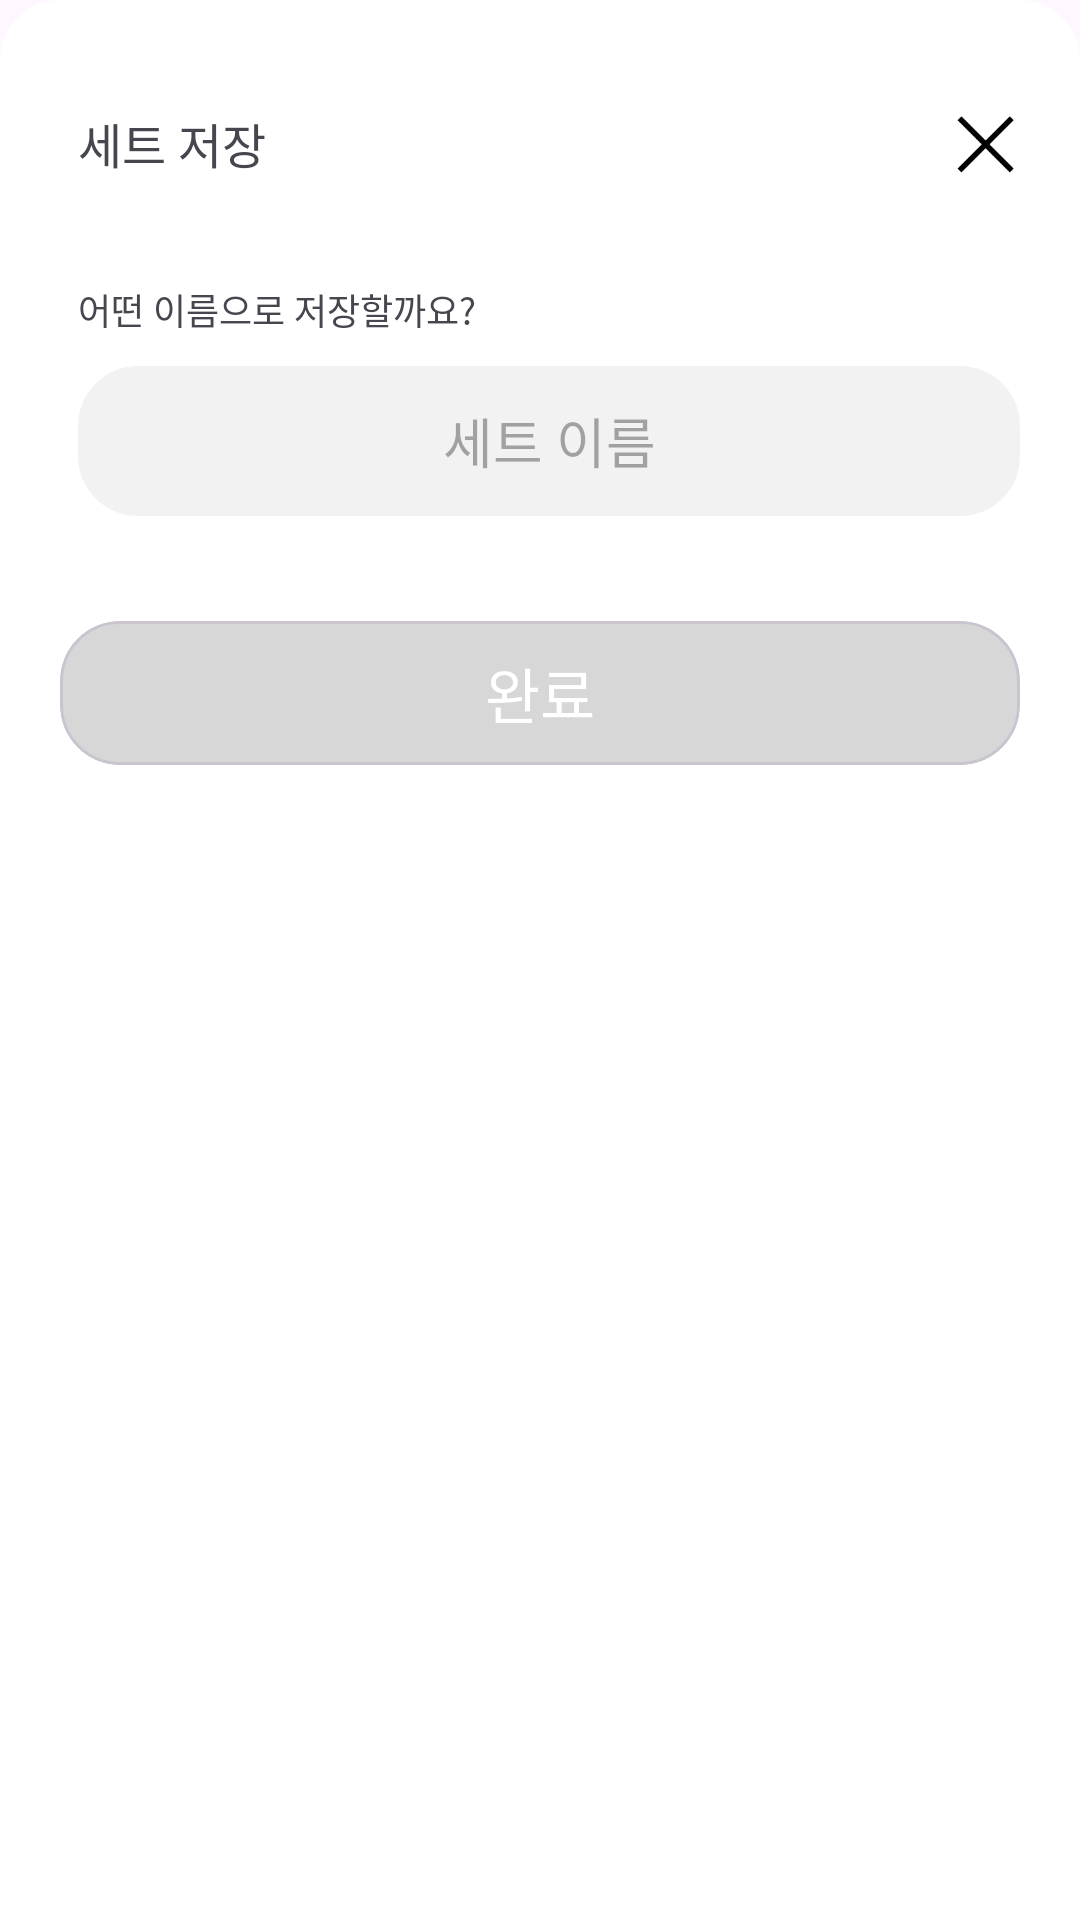

Where icons sit on this 1080w x 1920h app screen, as (x1, y1, x2, y2):
cancel: (957, 116, 1014, 173)
